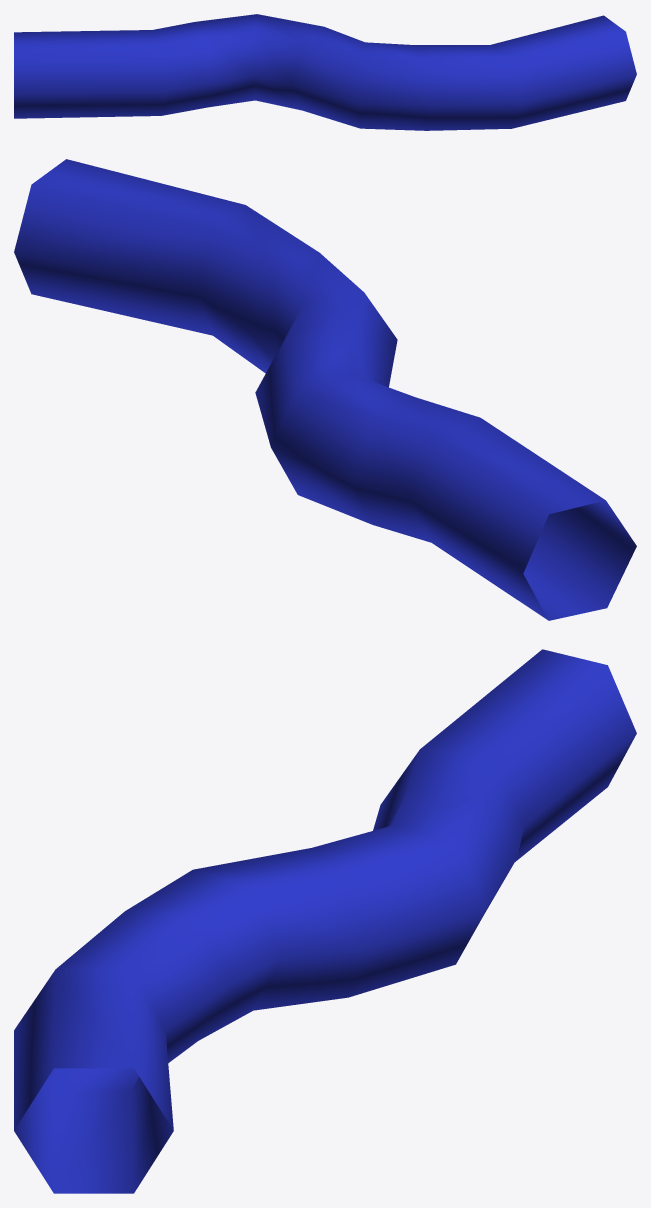
Rendered from Módulo de Cabos 1.fbx.
The picture shows the model from 3 angles, top to bottom: view 1: azimuth 30°, elevation 25°; view 2: azimuth 150°, elevation 25°; view 3: azimuth 270°, elevation 25°; orthographic projection. The views are drawn at different scales.
Parts seen in each view (by area): view 1: Cube; view 2: Cube; view 3: Cube.
Boxes of the visible parts, <box> form: Cube: <box>14,14,636,130</box>; Cube: <box>14,159,636,620</box>; Cube: <box>14,649,636,1193</box>.
Bounding box in the file's own units: 668 × 90.99 × 409.
